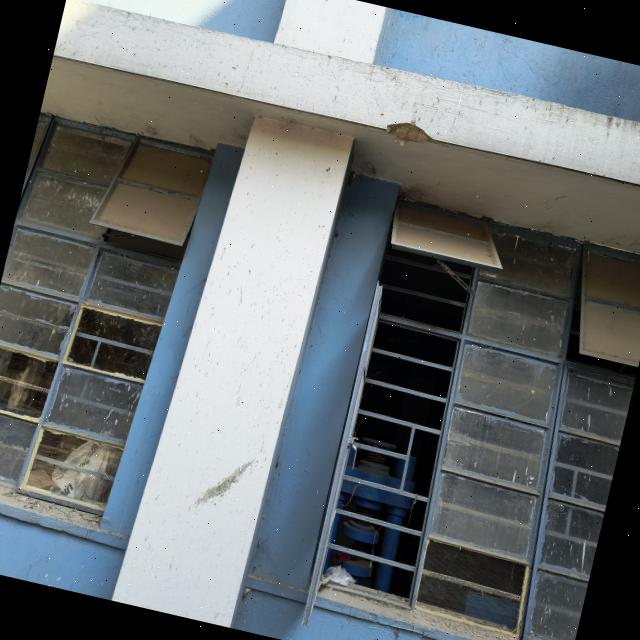peeling: (386, 121, 432, 145)
